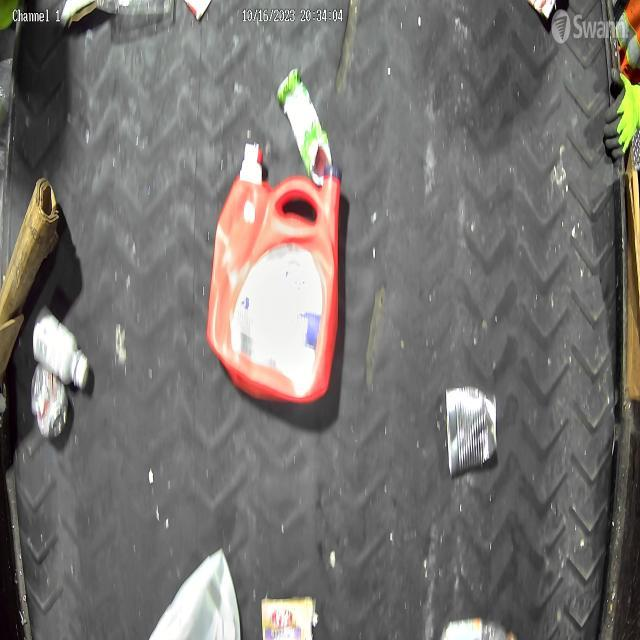can: (438, 379, 496, 482), (30, 370, 72, 448), (262, 590, 323, 640)
milk_jug: (148, 553, 246, 640)
non_white_jug: (205, 136, 348, 416)
plastic_bottle: (436, 608, 514, 640)
